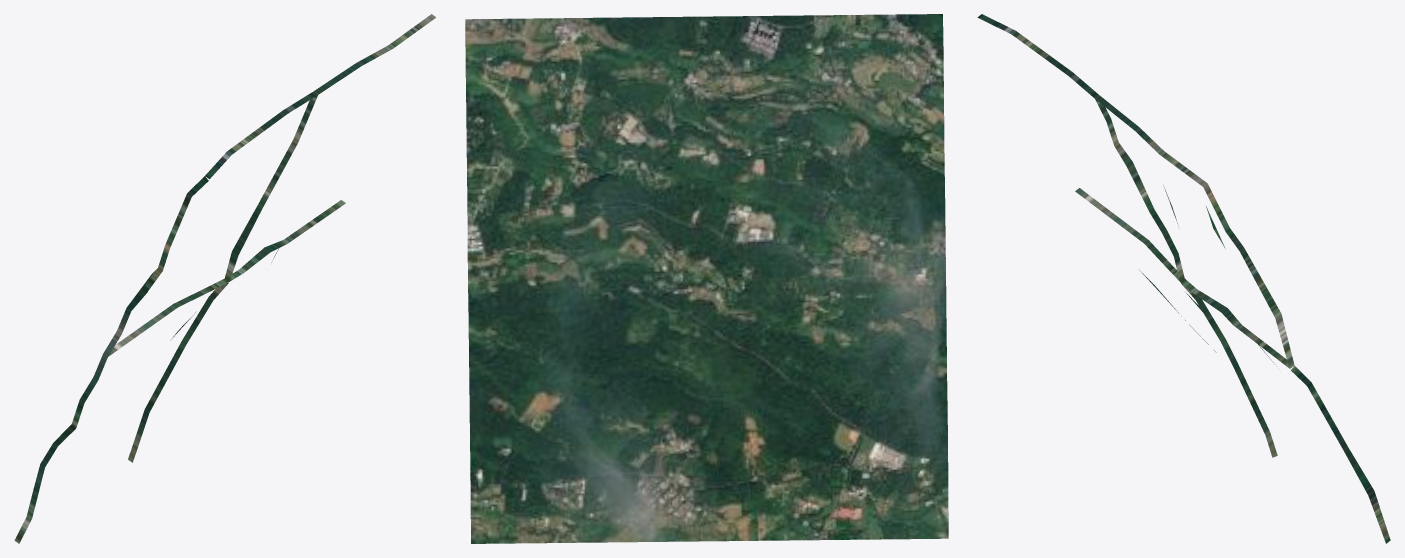
3 renders of one model, left to right at view 1: azimuth 30°, elevation 25°; view 2: azimuth 150°, elevation 25°; view 3: azimuth 270°, elevation 25°, orthographic. The views are drawn at different scales.
Size of the model in its own units: 2483 by 2246 by 2035.
Materials: 1 (1 with a texture image).
